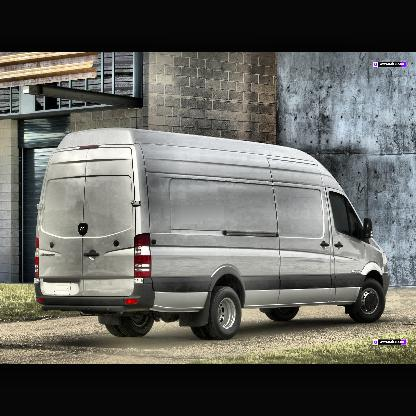Dodge Sprinter Cargo Van 2009: (30, 125, 392, 337)
